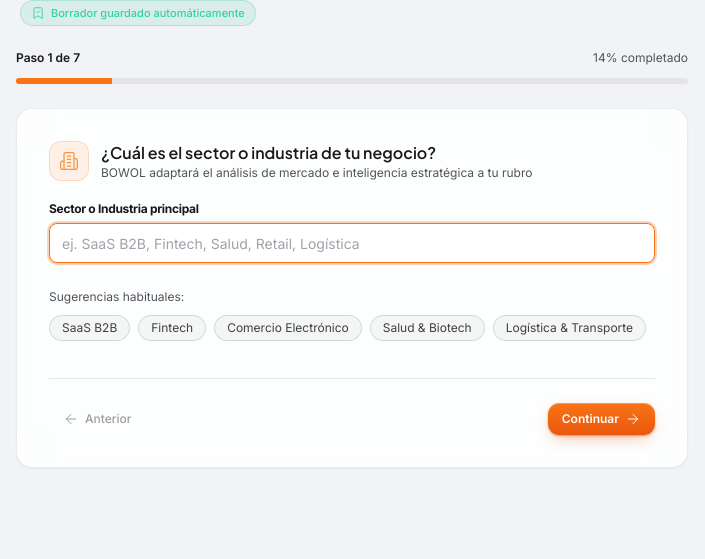
OnboardingWizard Component › renderiza el paso 1 y valida que la industria no esté vacía
expect the heading "¿Cuál es el sector o industria de tu negocio?" is shown: met, box [101,142,436,163]
Note: Intentar continuar sin escribir
Step 1. Click the button "Continuar" → {"x": 601, "y": 419}, box [548,403,655,435]
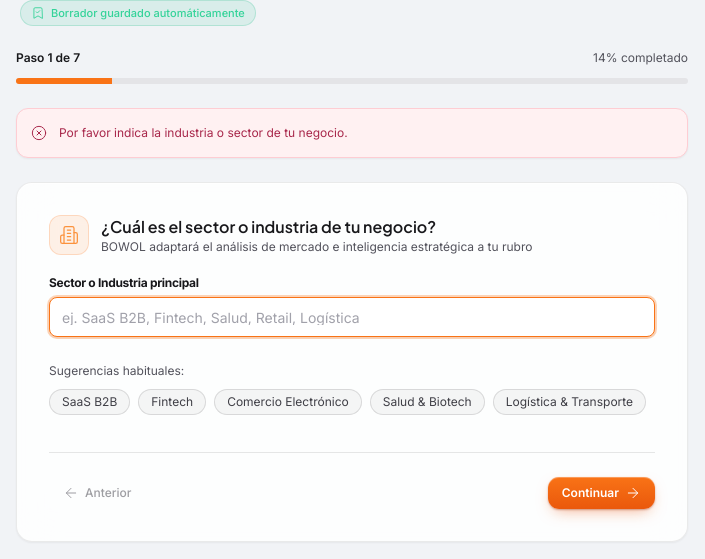
expect the text "Por favor indica la industria o sector de tu negocio." is shown: met, box [59,123,348,142]
